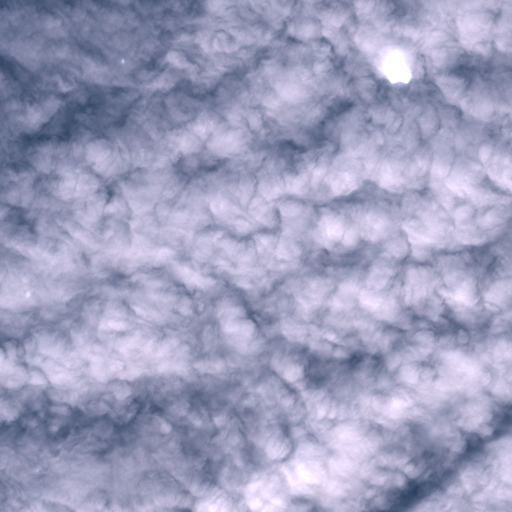Iceberg: (382, 50, 411, 82), (26, 291, 30, 297), (122, 59, 123, 62)
